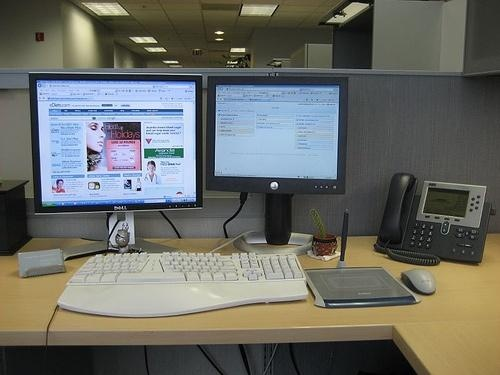pottedplant: (309, 209, 341, 257)
tvmonitor: (27, 69, 207, 262), (205, 75, 350, 256)
